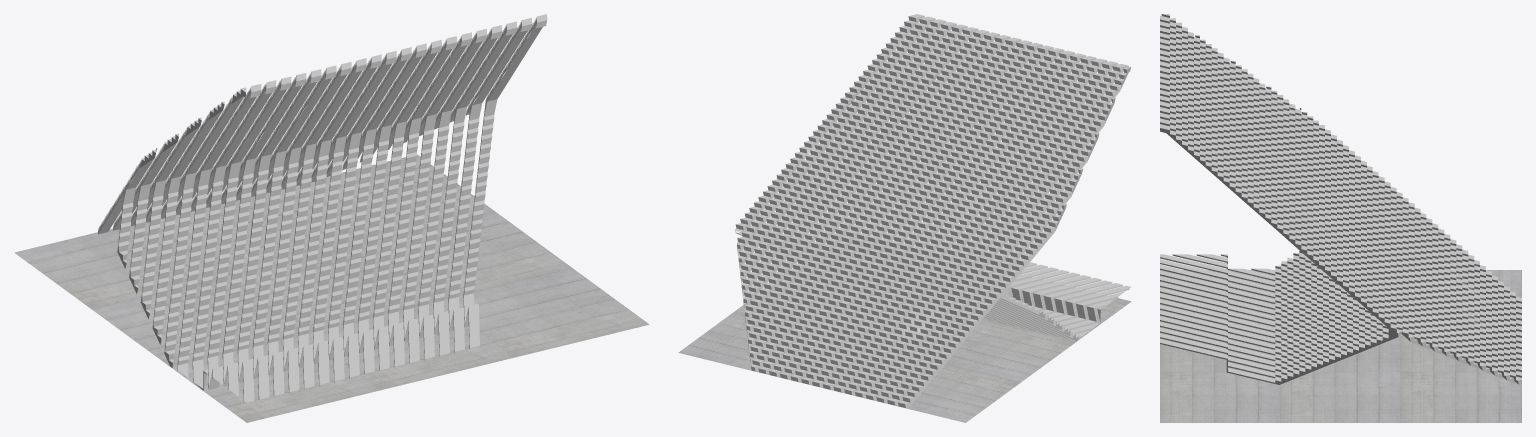
File: 12-TBPF-Digital_Topographies_12.glb
3 views of the same model, side by side, from view 1: azimuth 30°, elevation 25°; view 2: azimuth 150°, elevation 25°; view 3: azimuth 270°, elevation 25° (orthographic). The views are drawn at different scales.
Visible parts, largest first — view 1: TECHNOPUNKBRUTALFABRIQUE-HALF 1, Plane; view 2: TECHNOPUNKBRUTALFABRIQUE-HALF 1, Plane; view 3: TECHNOPUNKBRUTALFABRIQUE-HALF 1, Plane.
Boxes of the visible parts, bbox=[...] form: TECHNOPUNKBRUTALFABRIQUE-HALF 1: bbox=[98, 14, 547, 402]; Plane: bbox=[14, 154, 649, 422]; TECHNOPUNKBRUTALFABRIQUE-HALF 1: bbox=[735, 14, 1130, 407]; Plane: bbox=[678, 234, 1131, 422]; TECHNOPUNKBRUTALFABRIQUE-HALF 1: bbox=[1160, 14, 1521, 384]; Plane: bbox=[1160, 270, 1521, 422].
Size of what is drawn, in the model's own units: 32 by 25 by 32.
2 materials, 1 textured.
